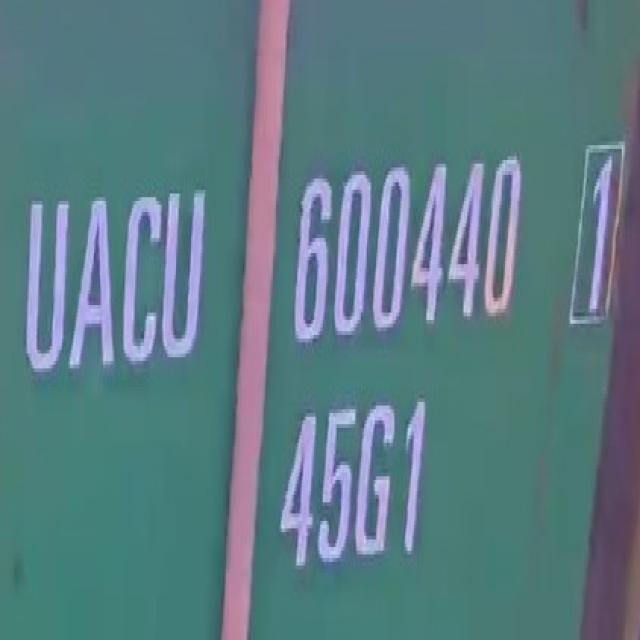dv: (568, 133, 624, 329)
owner: (17, 157, 210, 387)
serial: (285, 150, 534, 355)
size: (269, 383, 435, 568)
